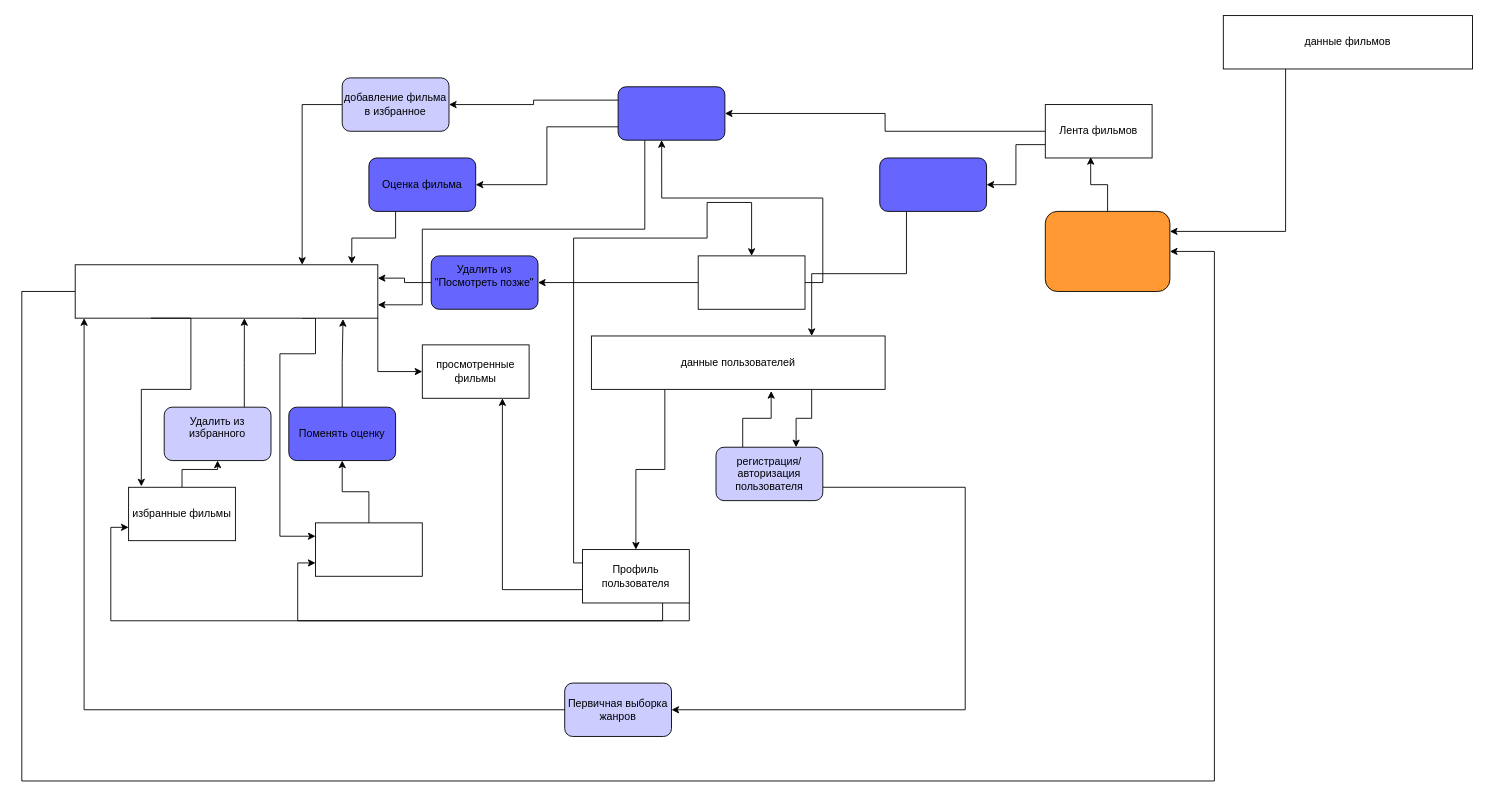
This 1488x804 diagram has some shape labels left out. Here are the shapes that lost their labels. From the top down, the centre of each, then its label:
the point at 671,113: Просмотр фильма
the point at 933,184: Добавление фильма в "Посмотреть позже"
the point at 1107,250: Формирование листинга фильмов на основе препочитаемых жанров
the point at 226,291: данные предпочтений пользователей
the point at 751,282: "Посмотреть позже"
the point at 368,549: Оценки
